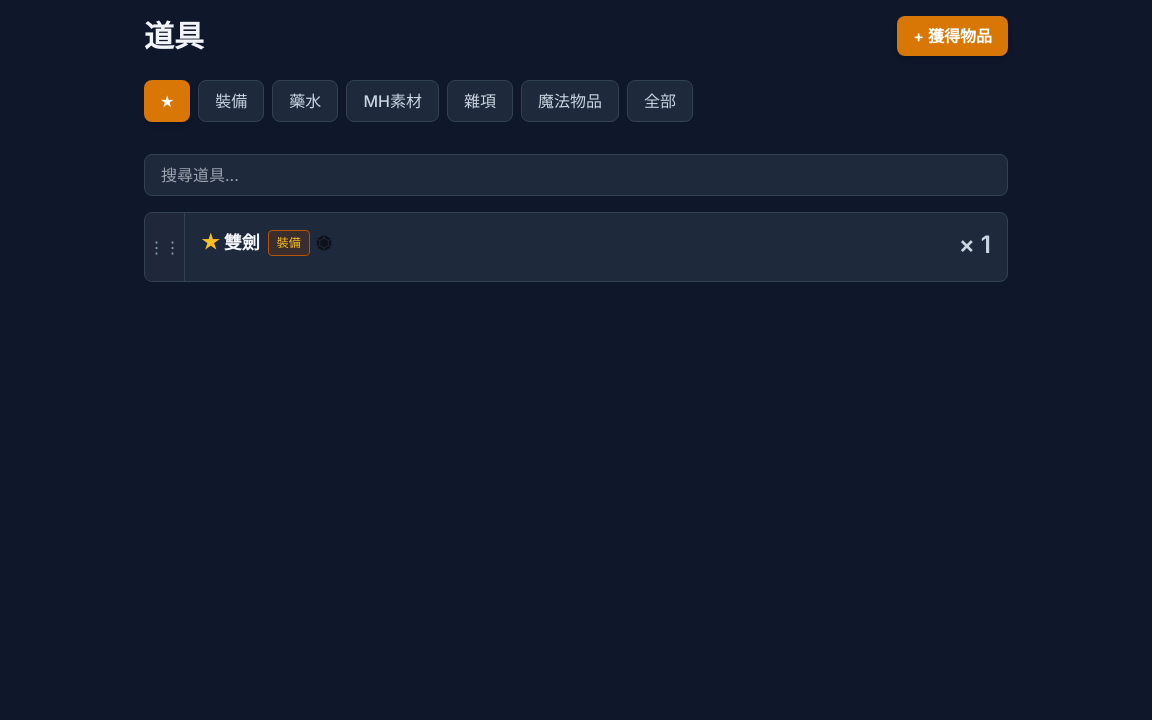
ItemsPage › 同一素材武器/護甲效果各自獨立設定時，鑲嵌畫面只會依裝備實際類型帶入對應那一份（不會混用）
Click the heading "★ 雙劍": coordinates (230, 243) top-left (201, 229), bottom-right (260, 257)
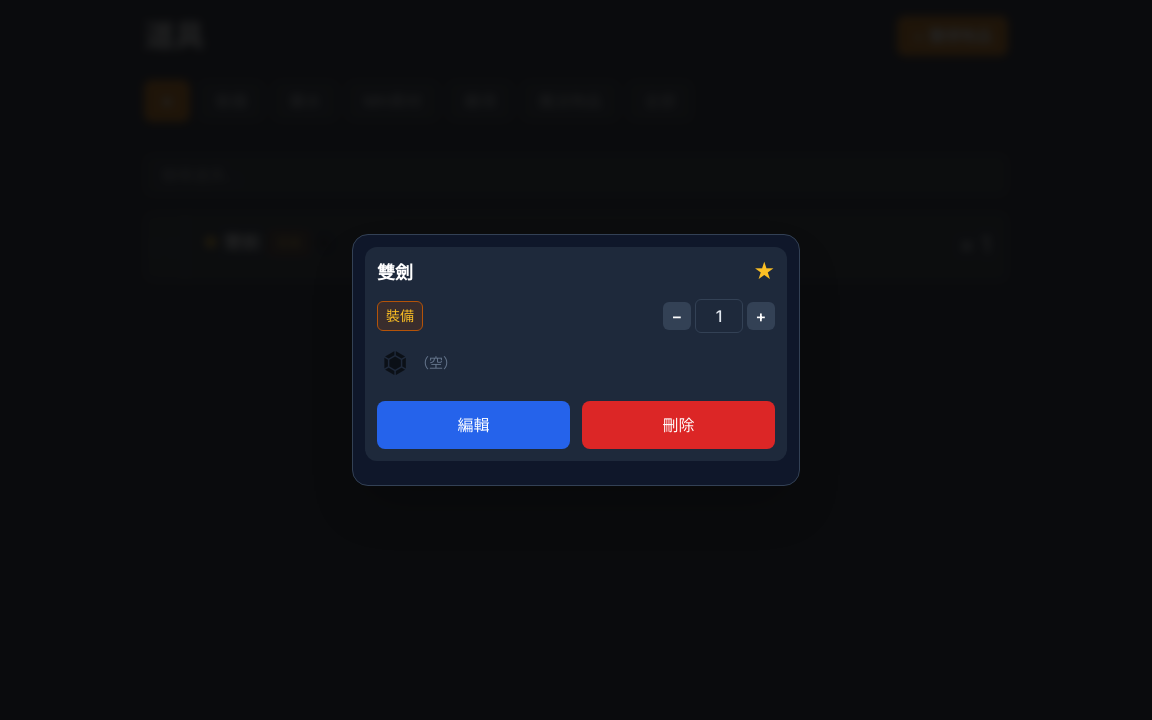
Click the button "（空）": coordinates (436, 362) top-left (377, 345), bottom-right (775, 381)
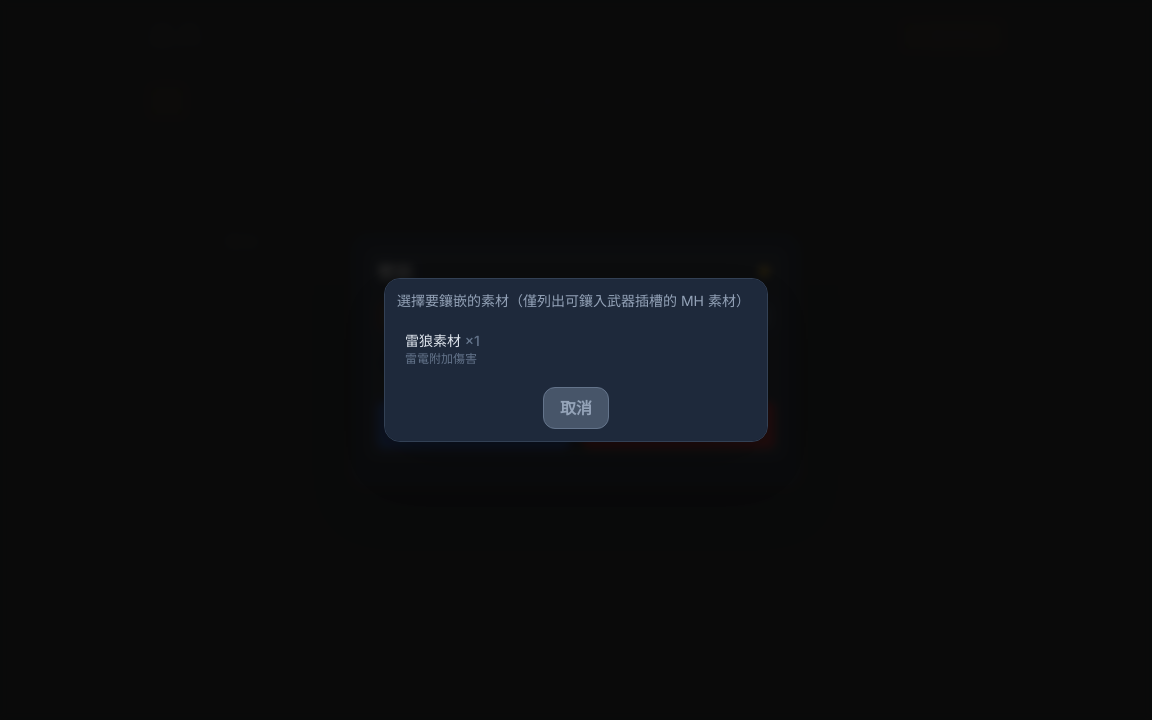
Now the text "雷狼素材" is shown, box top-left (405, 332), bottom-right (461, 349)
Now the text "雷電附加傷害" is shown, box top-left (405, 351), bottom-right (477, 366)
Click the text "雷狼素材": coordinates (442, 340) top-left (405, 332), bottom-right (480, 349)
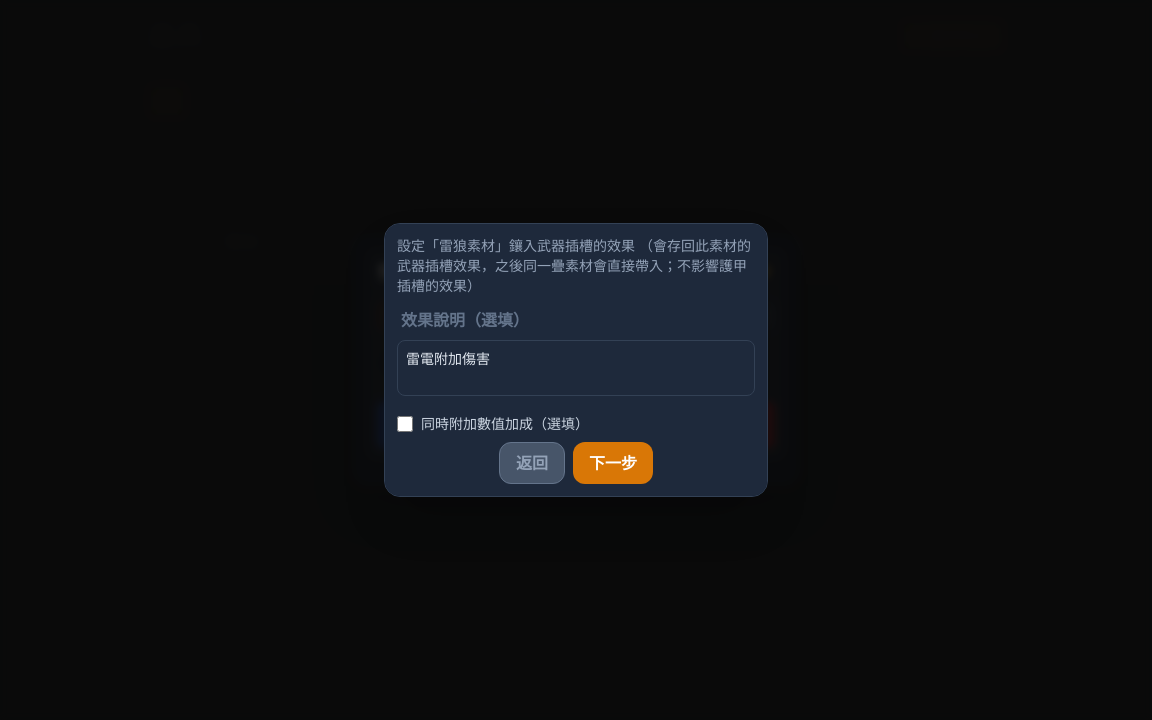
Now the text box with placeholder "描述鑲嵌後的效果，留空表示沒有效果" holds "雷電附加傷害", box top-left (397, 340), bottom-right (755, 396)
